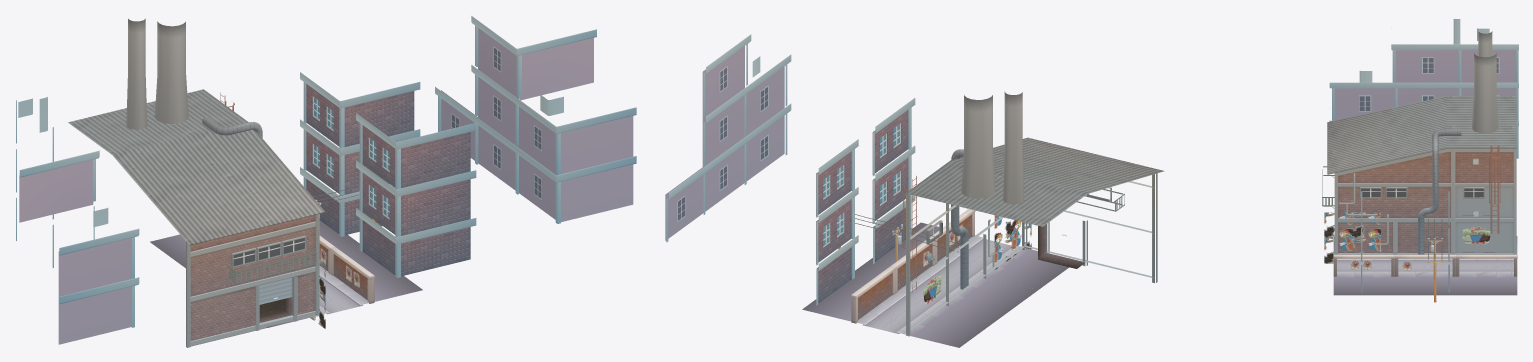
The model's file is IndustrialWarehouseUp.prefab.glb.
3 renders of one model, left to right at view 1: azimuth 30°, elevation 25°; view 2: azimuth 150°, elevation 25°; view 3: azimuth 270°, elevation 25°, orthographic. The views are drawn at different scales.
Visible parts, largest first — view 1: Warehouse02, FarBackBuilding03, BackgroundBuilding02, BackgroundBuilding02 (1), IndustrialWarehouseUp, BrickWall, Road02 (1), Road02; view 2: Warehouse02, FarBackBuilding03, BackgroundBuilding02 (1), BackgroundBuilding02, Road02 (1), Road02, IndustrialWarehouseUp, BrickWall (2), BrickWall (1), Graffiti01, BrickWall; view 3: Warehouse02, FarBackBuilding03, Road02 (1), IndustrialWarehouseUp, Road02, Graffiti01, BrickWall (1), BrickWall (2), BrickWall, Graffiti10, BackgroundBuilding02 (1), BackgroundBuilding02 (+1 smaller).
Boxes of the visible parts, x1,y1,x2,y2 form: Warehouse02: (68,18,324,347); FarBackBuilding03: (16,16,636,344); BackgroundBuilding02: (356,113,476,277); BackgroundBuilding02 (1): (300,72,420,236); IndustrialWarehouseUp: (266,263,422,327); BrickWall: (330,247,374,303); Road02 (1): (150,220,337,268); Road02: (319,234,377,277); Warehouse02: (902,91,1164,336); FarBackBuilding03: (665,34,791,242); BackgroundBuilding02 (1): (816,139,858,305); BackgroundBuilding02: (872,98,915,263); Road02 (1): (802,282,998,347); Road02: (848,253,1037,318); IndustrialWarehouseUp: (888,222,1068,289); BrickWall (2): (850,266,895,323); BrickWall (1): (891,237,935,292); Graffiti01: (994,215,1031,269); BrickWall: (931,209,975,264); Warehouse02: (1322,31,1516,258); FarBackBuilding03: (1329,19,1518,158); Road02 (1): (1456,236,1517,295); IndustrialWarehouseUp: (1333,237,1394,295); Road02: (1394,258,1455,295); Graffiti01: (1324,212,1380,263); BrickWall (1): (1394,254,1455,276); BrickWall (2): (1456,254,1517,276); BrickWall: (1333,254,1394,276); Graffiti10: (1462,226,1490,245); BackgroundBuilding02 (1): (1448,191,1495,292); BackgroundBuilding02: (1361,191,1407,292).
Bounding box in the file's own units: 76.34 × 32.75 × 28.94.
Materials: 10 (9 with a texture image).
